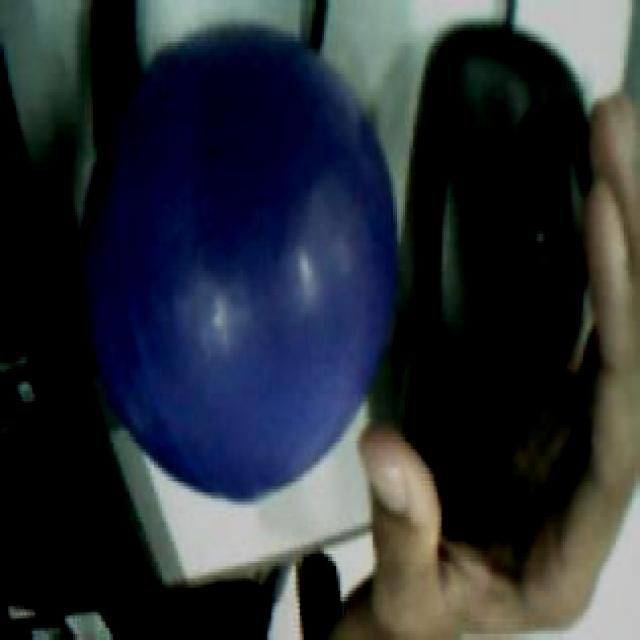BallPurple: (79, 26, 398, 502)
